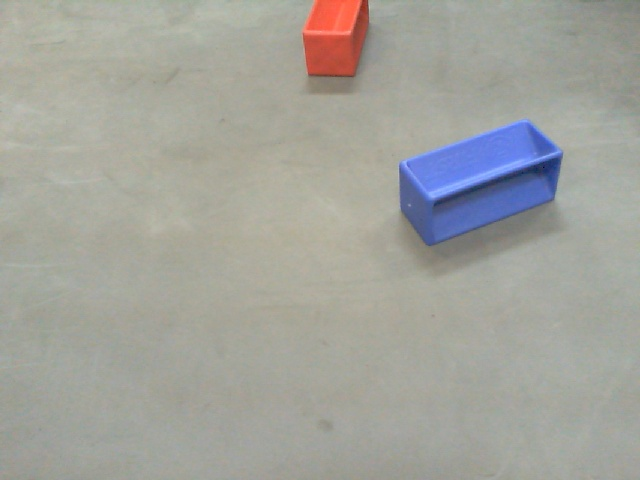BlueSample: (392, 119, 564, 250)
RedSample: (300, 1, 370, 78)
